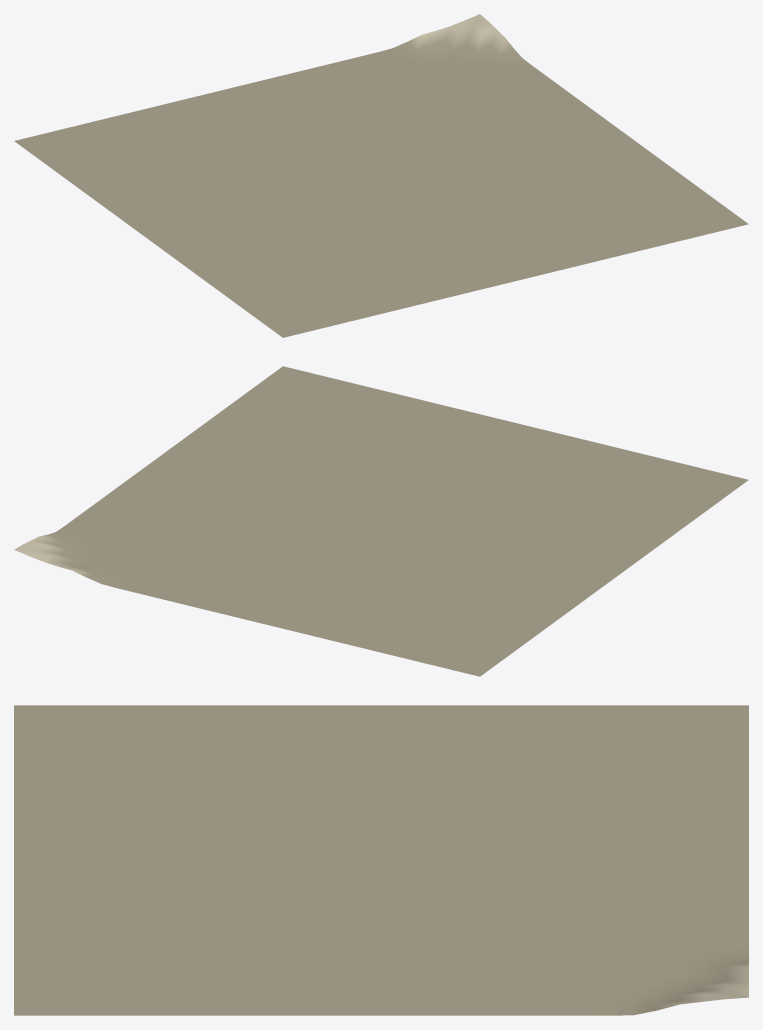
3 renders of one model, top to bottom at view 1: azimuth 30°, elevation 25°; view 2: azimuth 150°, elevation 25°; view 3: azimuth 270°, elevation 25°, orthographic. The views are drawn at different scales.
Parts seen in each view (by area): view 1: Terrain-col; view 2: Terrain-col; view 3: Terrain-col.
Part boxes in pixels (box(x1,y1,x2,y2)): Terrain-col: box(14, 14, 748, 337); Terrain-col: box(14, 366, 748, 676); Terrain-col: box(14, 705, 748, 1015).
Size of the model in its own units: 256 by 6.97 by 256.
